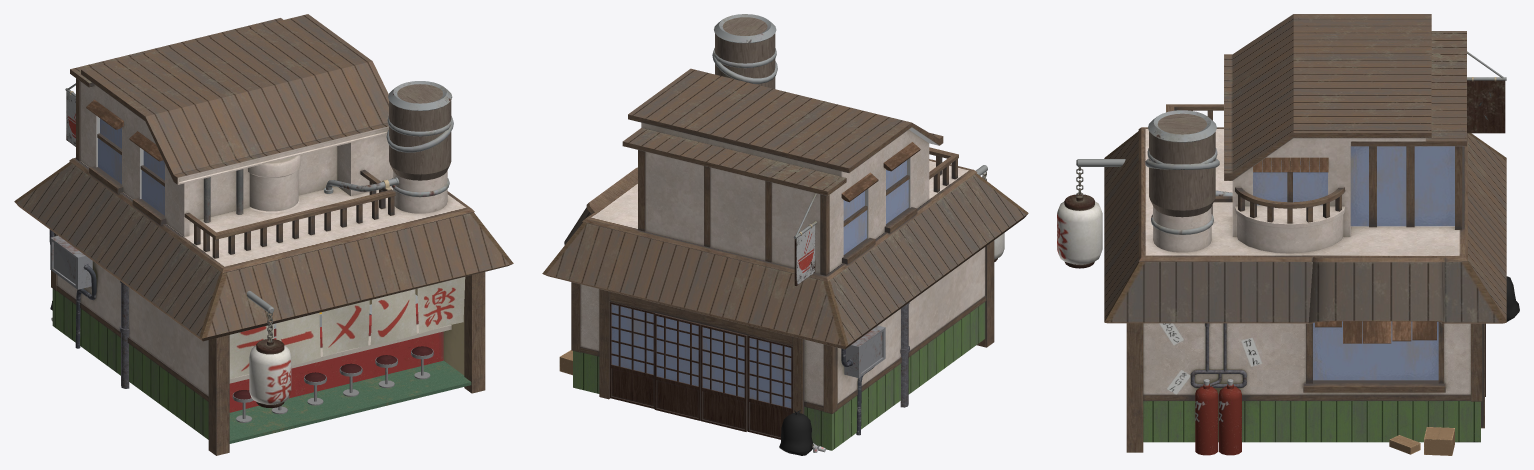
The model's file is 히든_호치킨.fbx.
3 renders of one model, left to right at view 1: azimuth 30°, elevation 25°; view 2: azimuth 150°, elevation 25°; view 3: azimuth 270°, elevation 25°, orthographic. The views are drawn at different scales.
Visible parts, largest first — view 1: 호치킨; view 2: 호치킨; view 3: 호치킨.
Part boxes in pixels (x1=…): 호치킨: x1=14, y1=14, x2=513, y2=455; 호치킨: x1=542, y1=14, x2=1028, y2=455; 호치킨: x1=1057, y1=14, x2=1519, y2=455.
Bounding box in the file's own units: 0.5173 × 0.4429 × 0.6.
